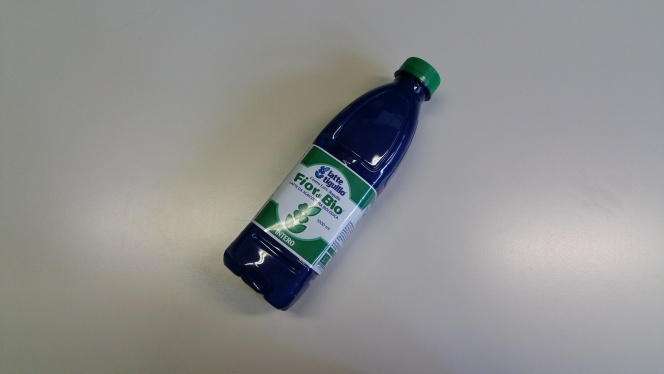bottle: (187, 44, 445, 316)
